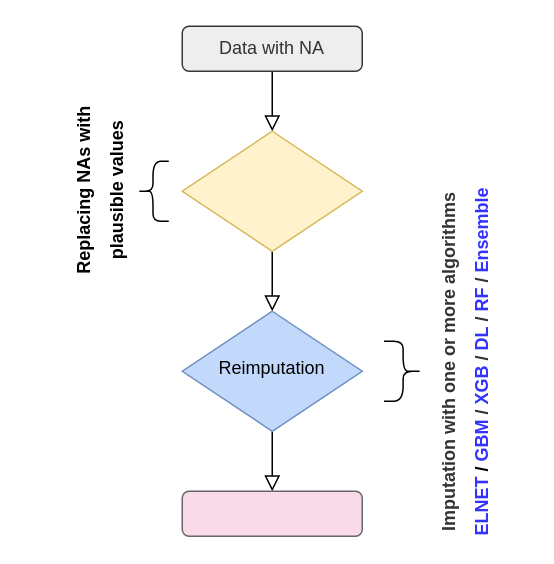
Image size: 554x564. Some labels were removed from this diagram. Here are the shapes that lost their labels. From the top down, the centre of each, then its label:
At (x=271, y=190): "Preimputation".
At (x=271, y=513): "Imputed data".
